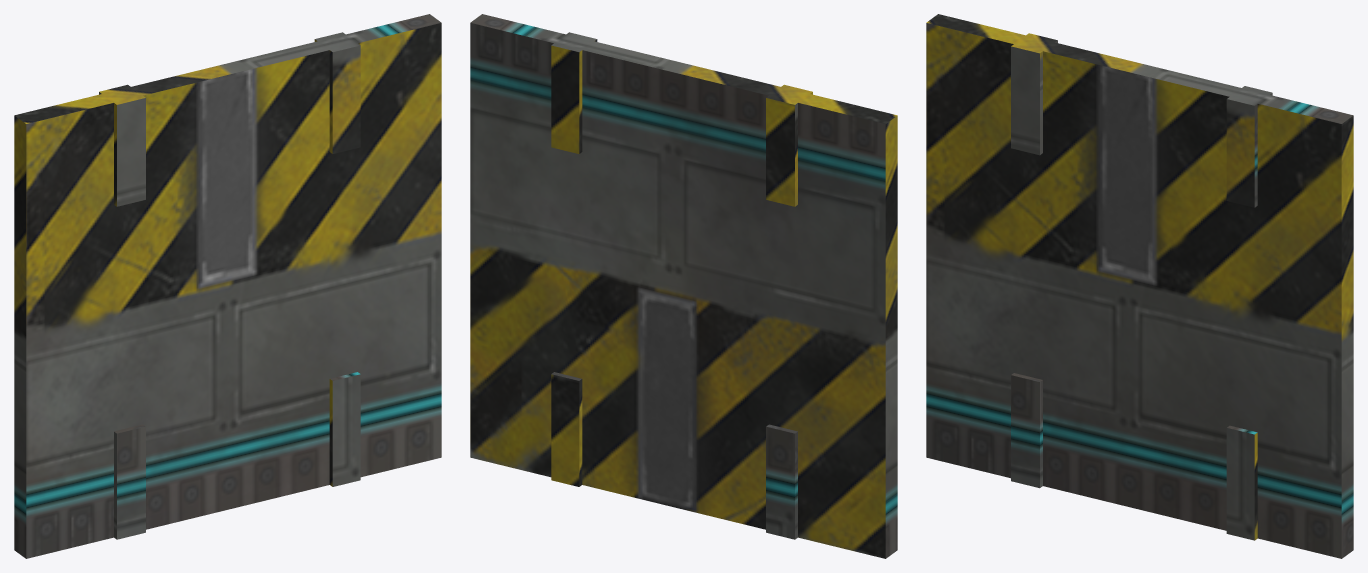
The model's file is UpperLabWall_SM.FBX.
3 renders of one model, left to right at view 1: azimuth 30°, elevation 25°; view 2: azimuth 150°, elevation 25°; view 3: azimuth 330°, elevation 25°, orthographic.
Parts seen in each view (by area): view 1: Box001; view 2: Box001; view 3: Box001.
Part boxes in pixels (bbox=[...]): Box001: bbox=[14, 14, 441, 558]; Box001: bbox=[470, 14, 897, 558]; Box001: bbox=[926, 14, 1353, 558].
Size of the model in its own units: 400 by 30 by 400.
Materials: 1 (1 with a texture image).
